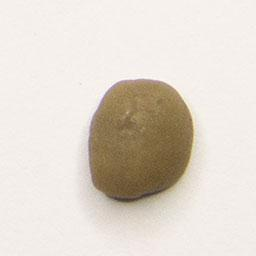premium: (85, 75, 197, 203)
